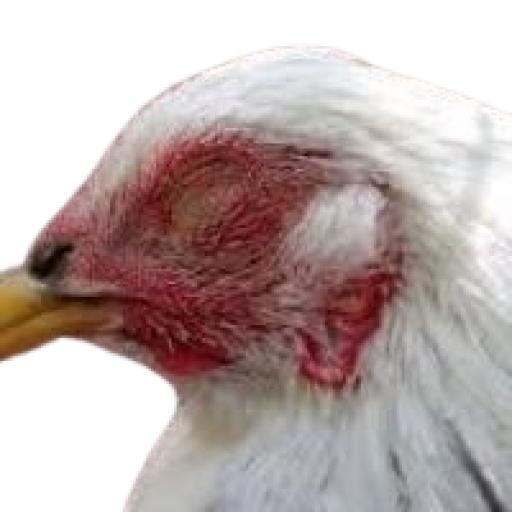disease: (73, 124, 383, 310)
